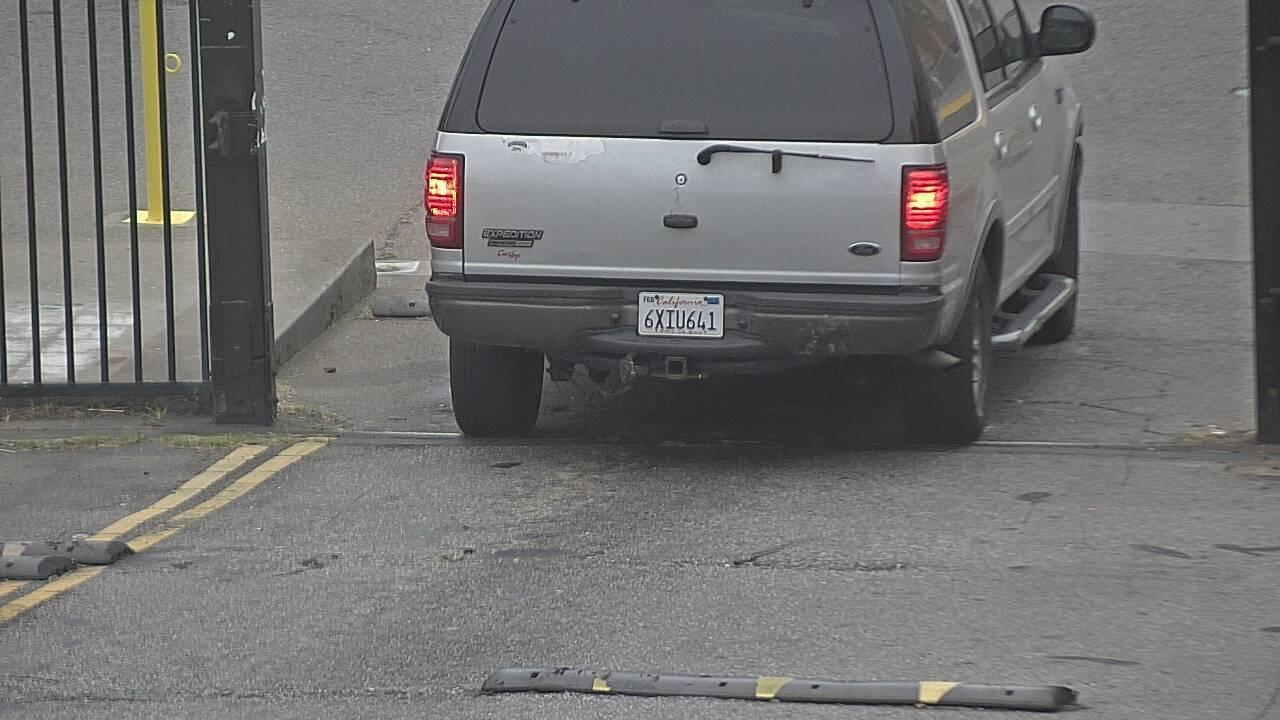placa de veiculo: (614, 275, 746, 351)
